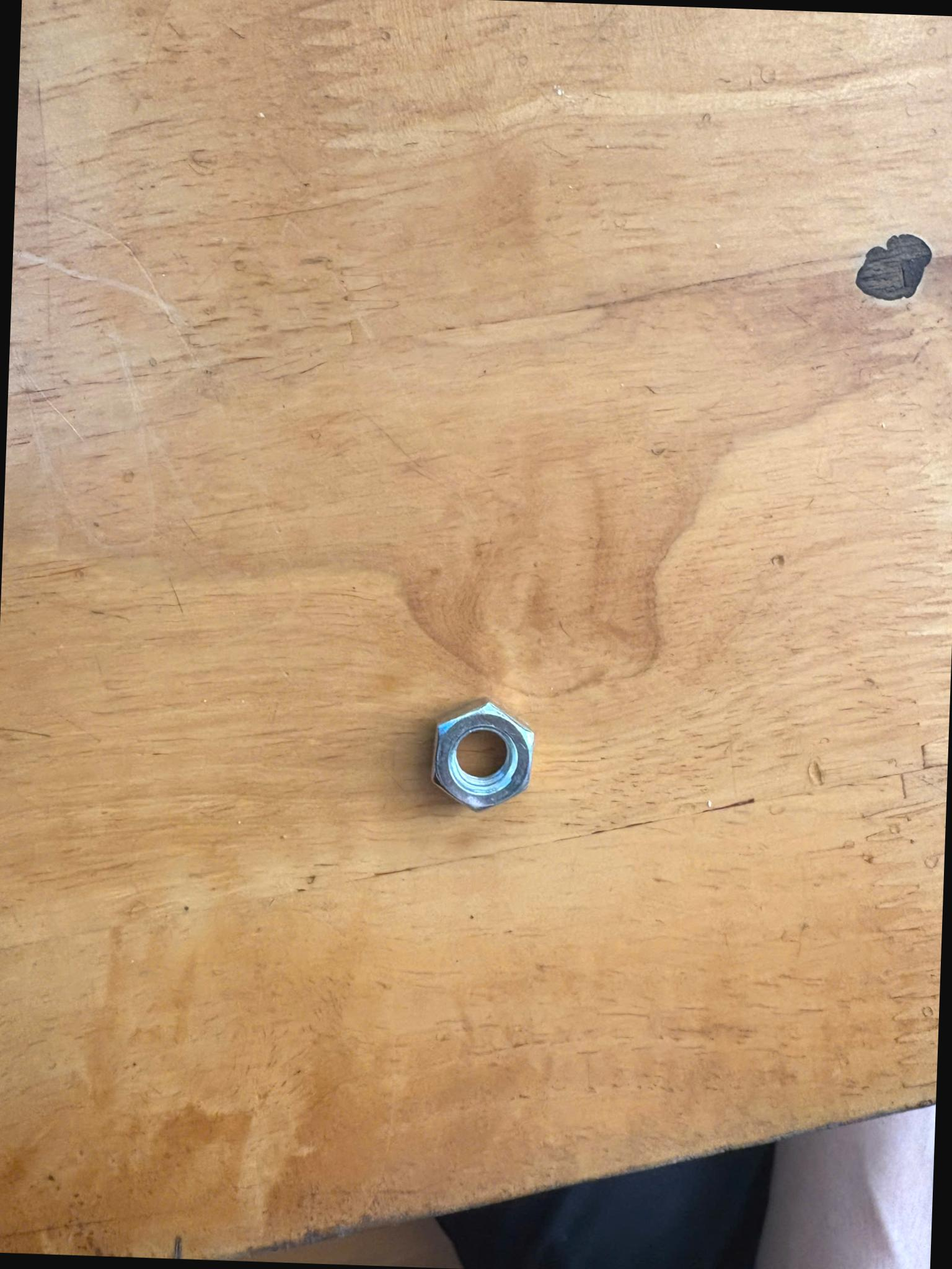nut: (404, 690, 563, 840)
